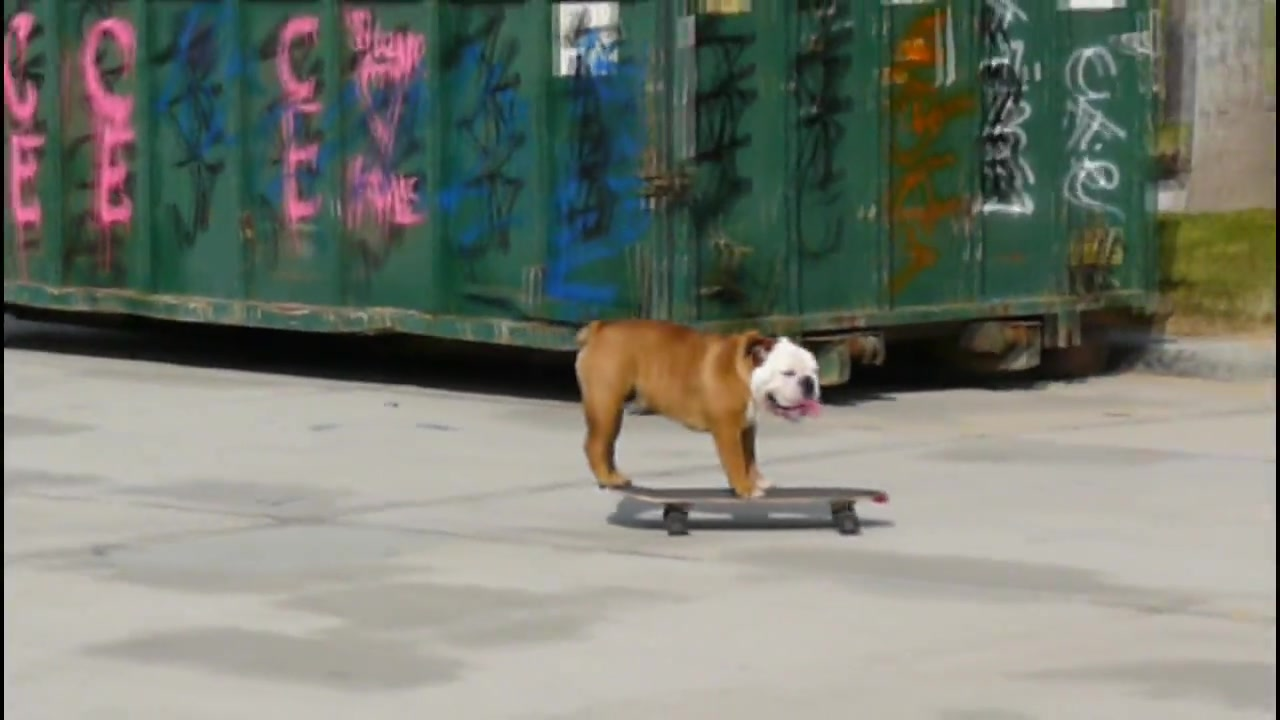dog: (573, 314, 823, 507)
